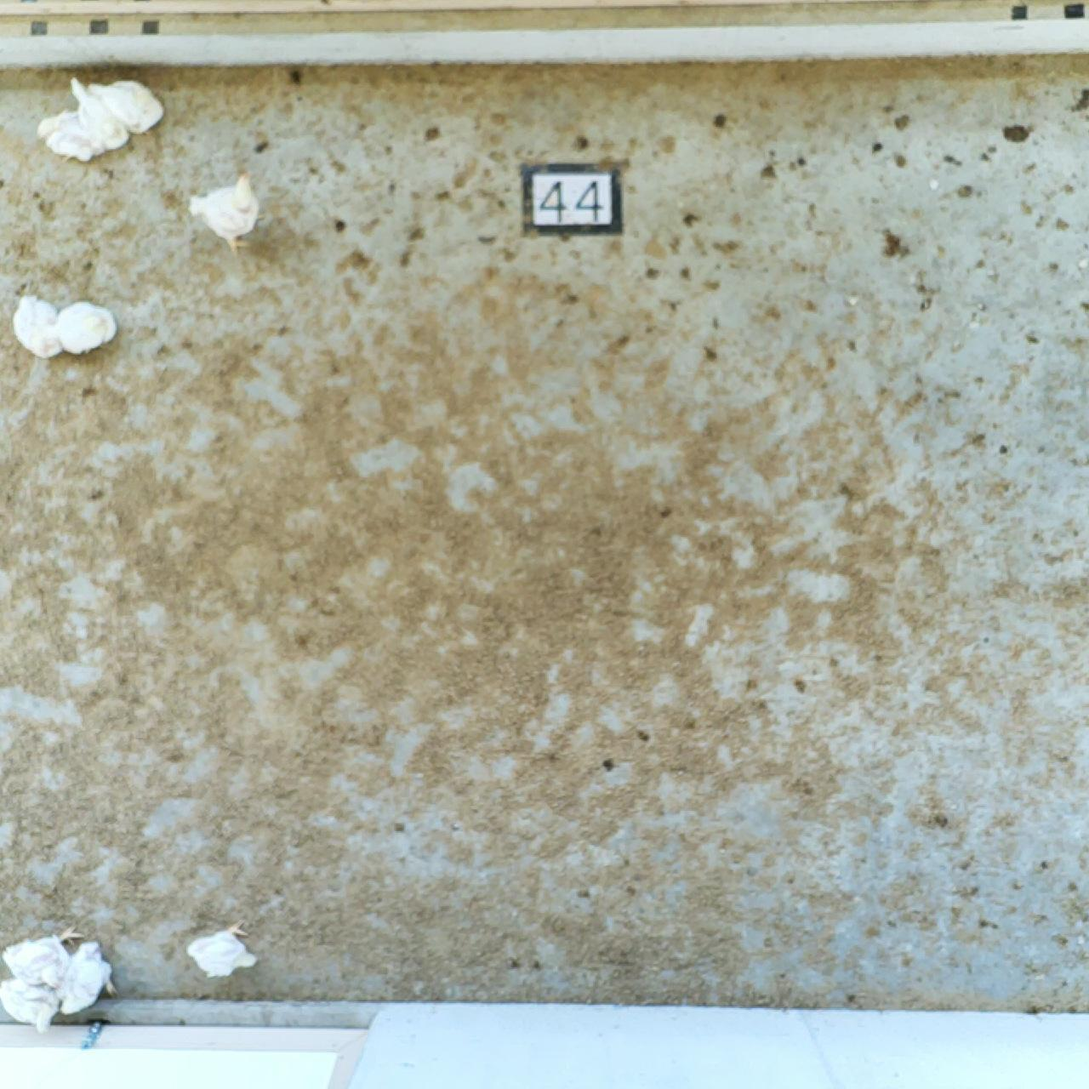chicken: (188, 171, 256, 246), (65, 82, 131, 149), (3, 929, 80, 986), (86, 79, 165, 132), (37, 111, 122, 159), (188, 925, 259, 978), (62, 944, 112, 1016), (1, 978, 67, 1030), (59, 302, 122, 354), (14, 294, 67, 353)
